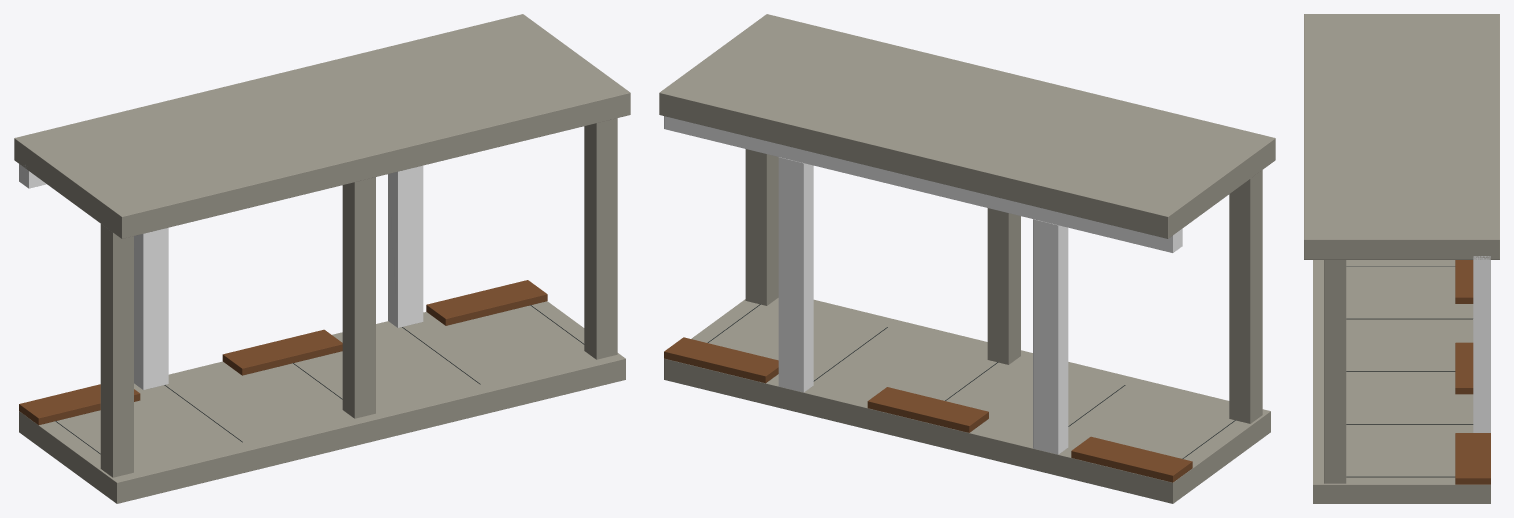
The model's file is five-foot-way.glb.
The picture shows the model from 3 angles, left to right: view 1: azimuth 30°, elevation 25°; view 2: azimuth 150°, elevation 25°; view 3: azimuth 270°, elevation 25°; orthographic projection. The views are drawn at different scales.
Visible parts, largest first — view 1: Covered_Arcade_Slab, Linked_Arcade_Floor, Arcade_Column.001, Arcade_Column, Arcade_Column.002, Party_Wall_Pier.001, Party_Wall_Pier, Shop_Threshold.002, Shop_Threshold.001, Shop_Threshold; view 2: Covered_Arcade_Slab, Linked_Arcade_Floor, Party_Wall_Pier.001, Party_Wall_Pier, Arcade_Column.001, Rear_Header, Arcade_Column, Arcade_Column.002, Shop_Threshold, Shop_Threshold.001, Shop_Threshold.002; view 3: Covered_Arcade_Slab, Linked_Arcade_Floor, Arcade_Column, Party_Wall_Pier.001, Shop_Threshold.002, Shop_Threshold.001, Shop_Threshold, Rear_Header, Floor_Joint.001.
Part boxes in pixels (left/top/right/bottom): Covered_Arcade_Slab: left=14, top=14, right=630, bottom=238; Linked_Arcade_Floor: left=19, top=301, right=625, bottom=503; Arcade_Column.001: left=100, top=224, right=133, bottom=477; Arcade_Column: left=584, top=118, right=617, bottom=359; Arcade_Column.002: left=342, top=177, right=375, bottom=418; Party_Wall_Pier.001: left=388, top=165, right=423, bottom=327; Party_Wall_Pier: left=134, top=227, right=168, bottom=389; Shop_Threshold.002: left=426, top=280, right=547, bottom=325; Shop_Threshold.001: left=222, top=329, right=342, bottom=375; Shop_Threshold: left=19, top=384, right=140, bottom=425; Covered_Arcade_Slab: left=659, top=14, right=1275, bottom=238; Linked_Arcade_Floor: left=664, top=298, right=1270, bottom=503; Party_Wall_Pier.001: left=778, top=157, right=813, bottom=392; Party_Wall_Pier: left=1033, top=219, right=1068, bottom=454; Arcade_Column.001: left=1229, top=170, right=1262, bottom=423; Rear_Header: left=664, top=116, right=1182, bottom=252; Arcade_Column: left=745, top=149, right=778, bottom=305; Arcade_Column.002: left=987, top=208, right=1020, bottom=364; Shop_Threshold: left=1071, top=436, right=1192, bottom=482; Shop_Threshold.001: left=867, top=387, right=988, bottom=432; Shop_Threshold.002: left=664, top=337, right=778, bottom=383; Covered_Arcade_Slab: left=1304, top=14, right=1499, bottom=259; Linked_Arcade_Floor: left=1313, top=260, right=1490, bottom=503; Arcade_Column: left=1324, top=260, right=1346, bottom=483; Party_Wall_Pier.001: left=1473, top=276, right=1490, bottom=432; Shop_Threshold.002: left=1455, top=433, right=1490, bottom=484; Shop_Threshold.001: left=1455, top=342, right=1473, bottom=394; Shop_Threshold: left=1455, top=260, right=1473, bottom=303; Rear_Header: left=1473, top=256, right=1490, bottom=275; Floor_Joint.001: left=1346, top=318, right=1472, bottom=319.
Size of the model in its own units: 6 by 3.28 by 2.2.
